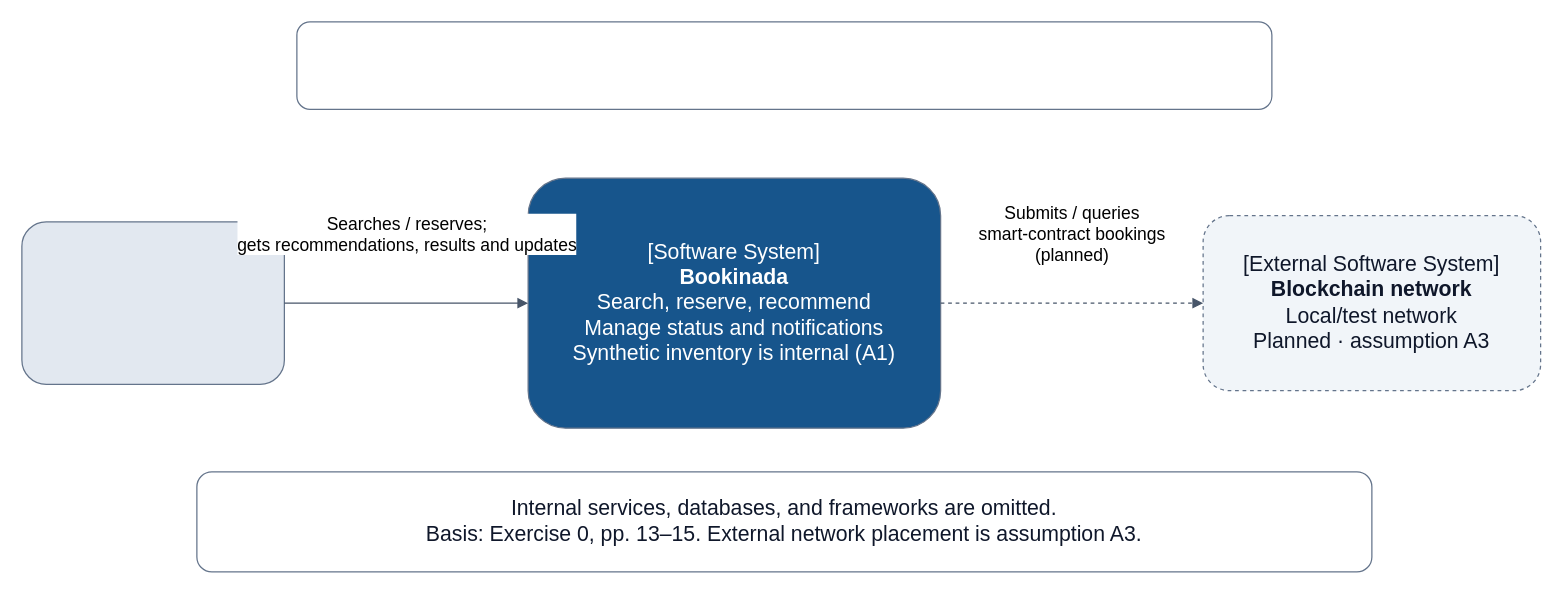
The diagram is 1563 pixels wide and 594 high, and some of its shapes have lost their labels. Each missing label, with the centre of its shape:
"[Person] Traveller Plans and books trips" belongs at (x=152, y=302).
"Bookinada — System Context Week 1 proposal; planned relationships are dashed" belongs at (x=784, y=65).
